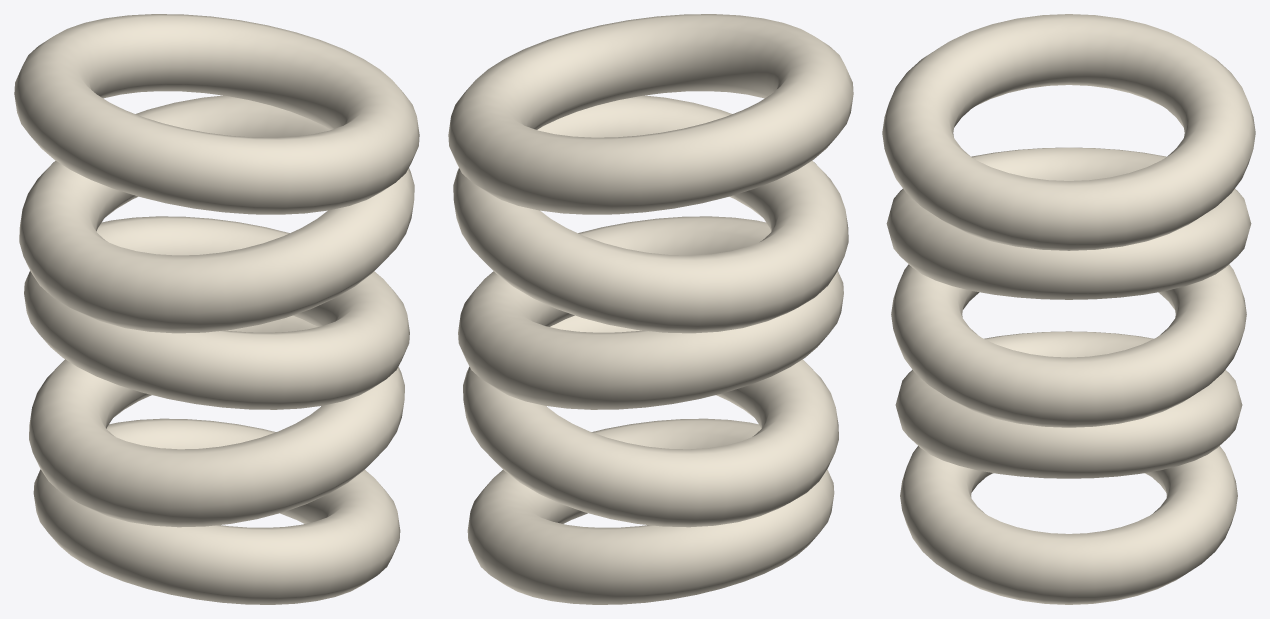
Rendered from riven_wrap.glb.
3 views of the same model, side by side, from view 1: azimuth 30°, elevation 25°; view 2: azimuth 150°, elevation 25°; view 3: azimuth 270°, elevation 25° (orthographic). The views are drawn at different scales.
Visible parts, largest first — view 1: riven_wrap; view 2: riven_wrap; view 3: riven_wrap.
Boxes of the visible parts, x1=… form: riven_wrap: x1=14, y1=14, x2=419, y2=604; riven_wrap: x1=448, y1=14, x2=853, y2=604; riven_wrap: x1=882, y1=14, x2=1255, y2=604.
Bounding box in the file's own units: 0.1661 × 0.2306 × 0.168.
